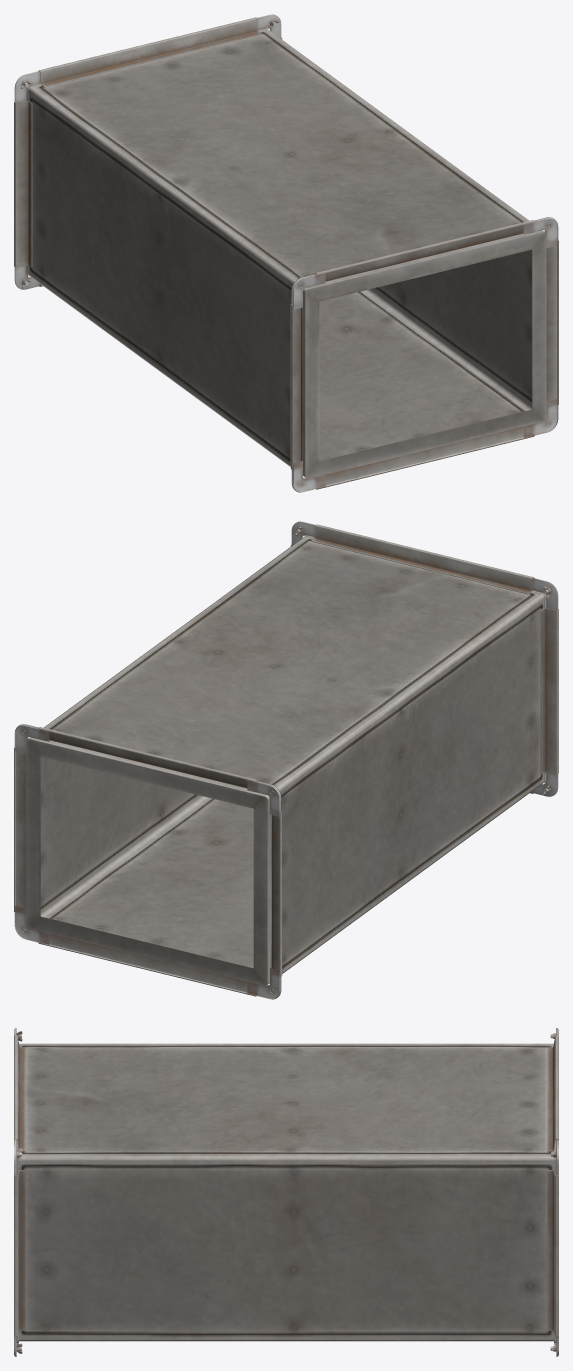
The model's file is double_01.glb.
3 views of the same model, one above another, from view 1: azimuth 30°, elevation 25°; view 2: azimuth 150°, elevation 25°; view 3: azimuth 270°, elevation 25° (orthographic). The views are drawn at different scales.
Visible parts, largest first — view 1: modular_airduct_rectangular_01_double_01.001; view 2: modular_airduct_rectangular_01_double_01.001; view 3: modular_airduct_rectangular_01_double_01.001.
Part boxes in pixels (box(x1,y1,x2,y2)): modular_airduct_rectangular_01_double_01.001: box(14, 14, 558, 492); modular_airduct_rectangular_01_double_01.001: box(14, 521, 558, 999); modular_airduct_rectangular_01_double_01.001: box(14, 1028, 558, 1356).
Size of the model in its own units: 0.6634 by 0.5126 by 1.2.
Materials: 2 (2 with a texture image).
